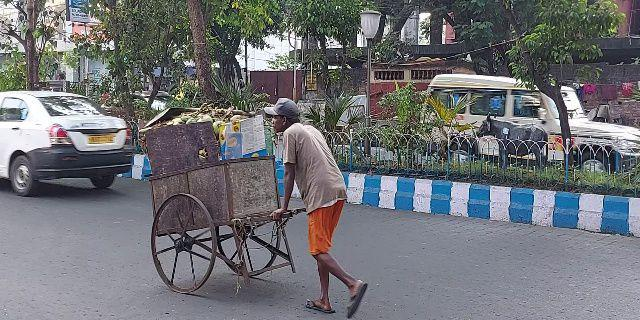Car: (1, 88, 134, 190)
